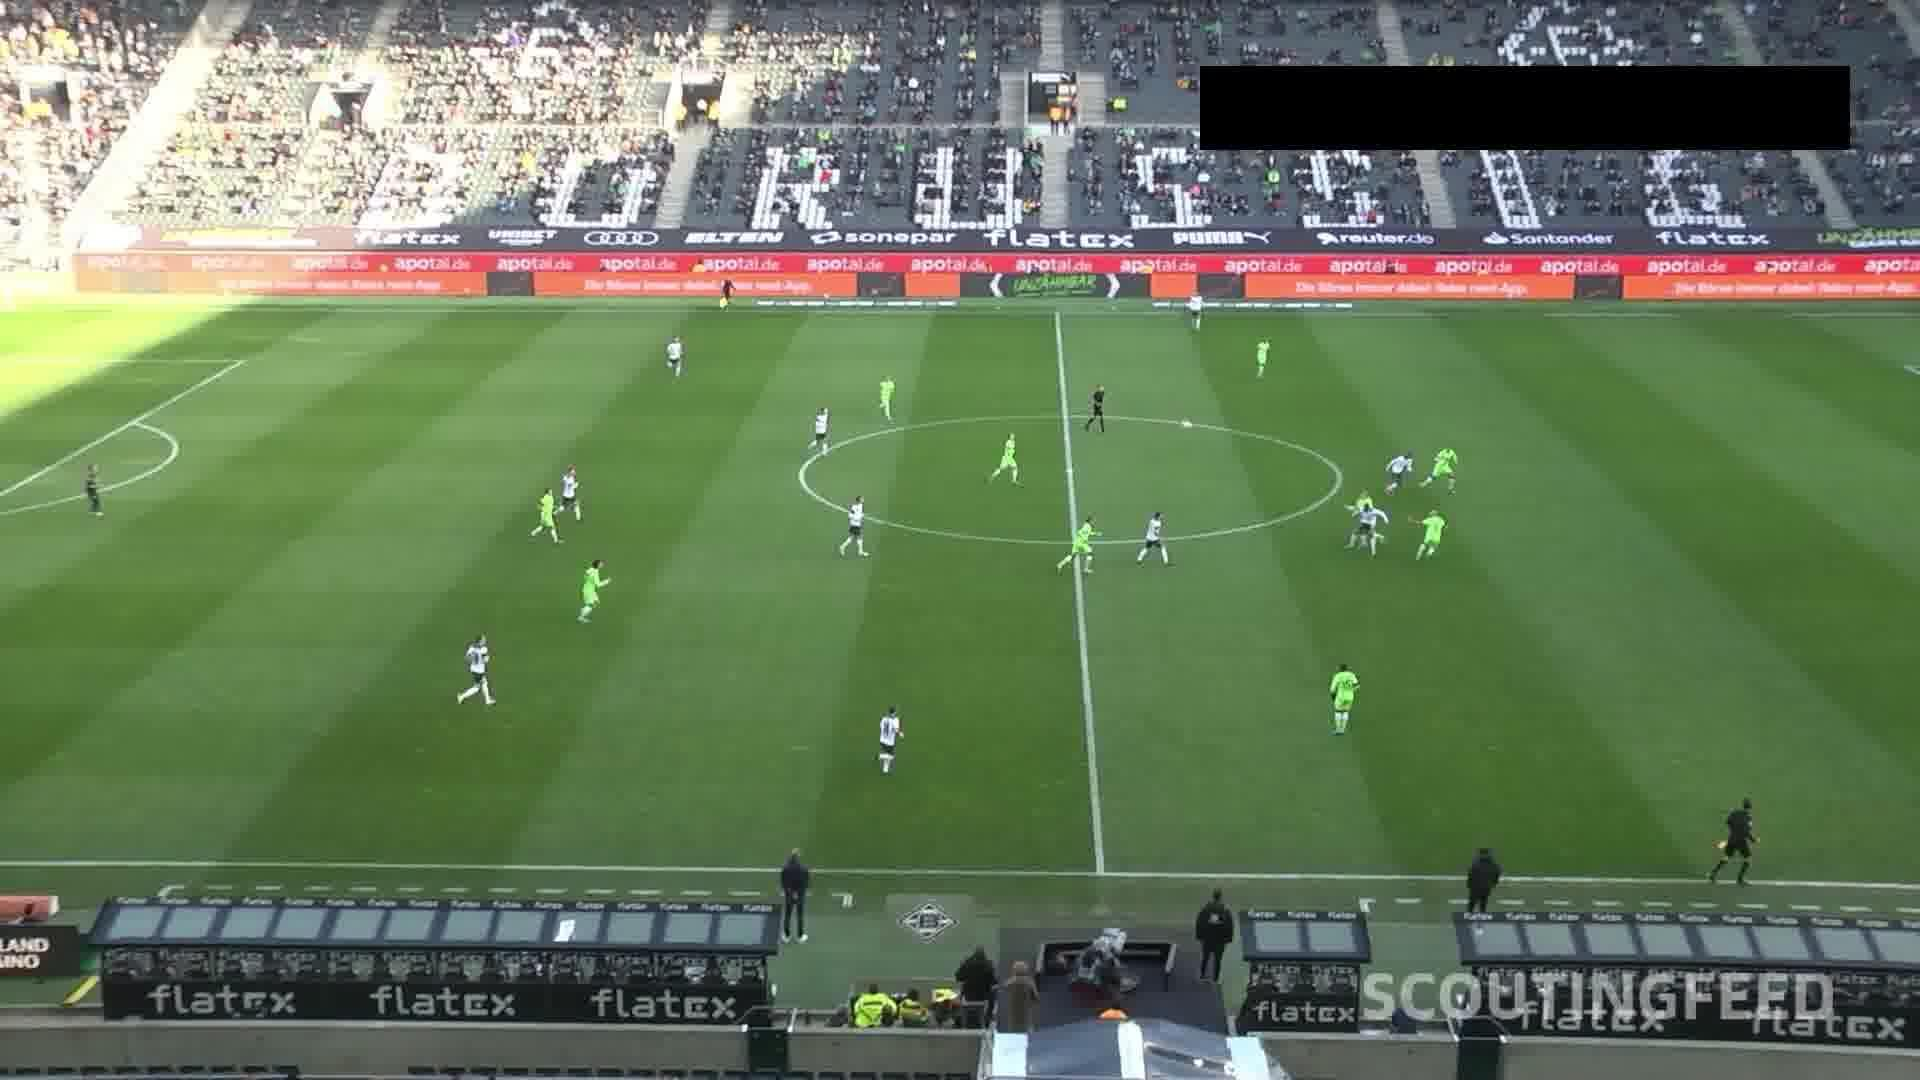football: (1180, 421, 1192, 429)
